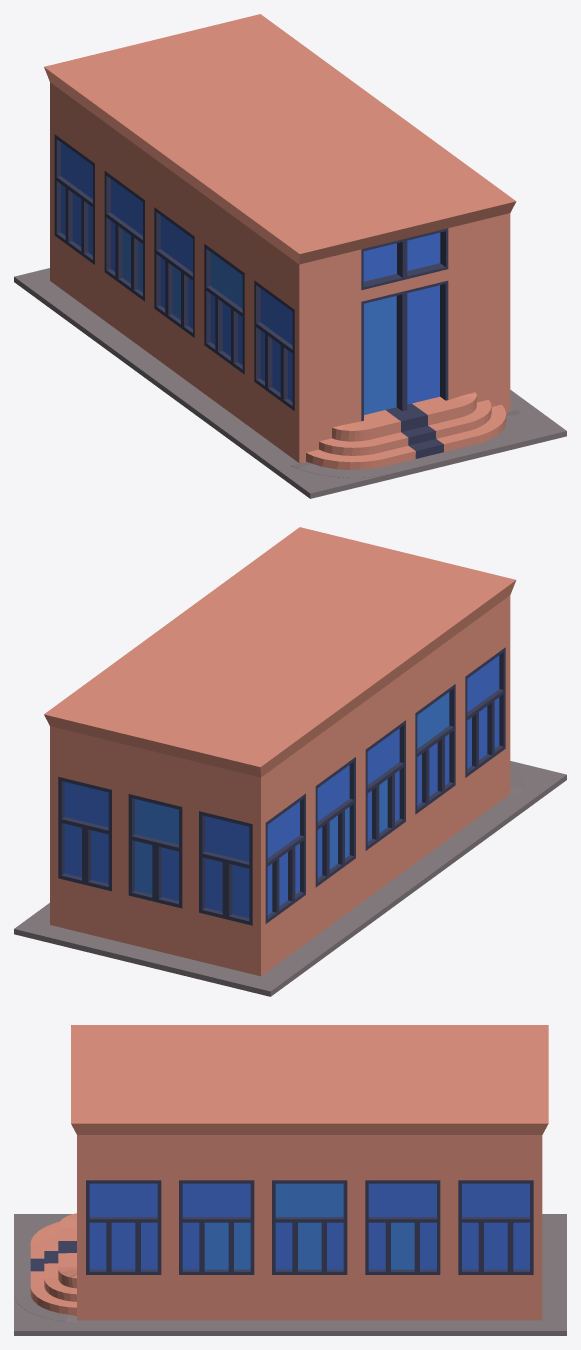
Rendered from building_1x2_1_g.glb.
The picture shows the model from 3 angles, top to bottom: view 1: azimuth 30°, elevation 25°; view 2: azimuth 150°, elevation 25°; view 3: azimuth 270°, elevation 25°; orthographic projection. The views are drawn at different scales.
Visible parts, largest first — view 1: FirstFloor; view 2: FirstFloor; view 3: FirstFloor.
Boxes of the visible parts, x1,y1,x2,y2 form: FirstFloor: (14,14,566,498); FirstFloor: (14,527,566,996); FirstFloor: (14,1025,566,1335).
Bounding box in the file's own units: 2 × 1.62 × 4.
